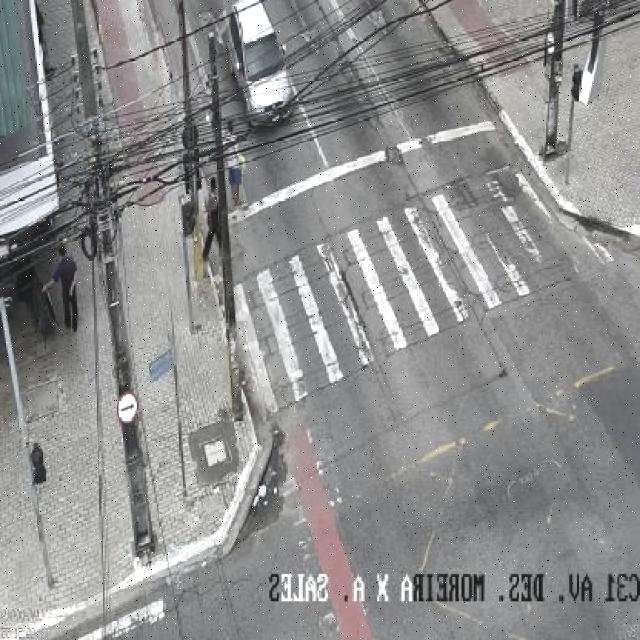Car: (228, 0, 301, 129)
